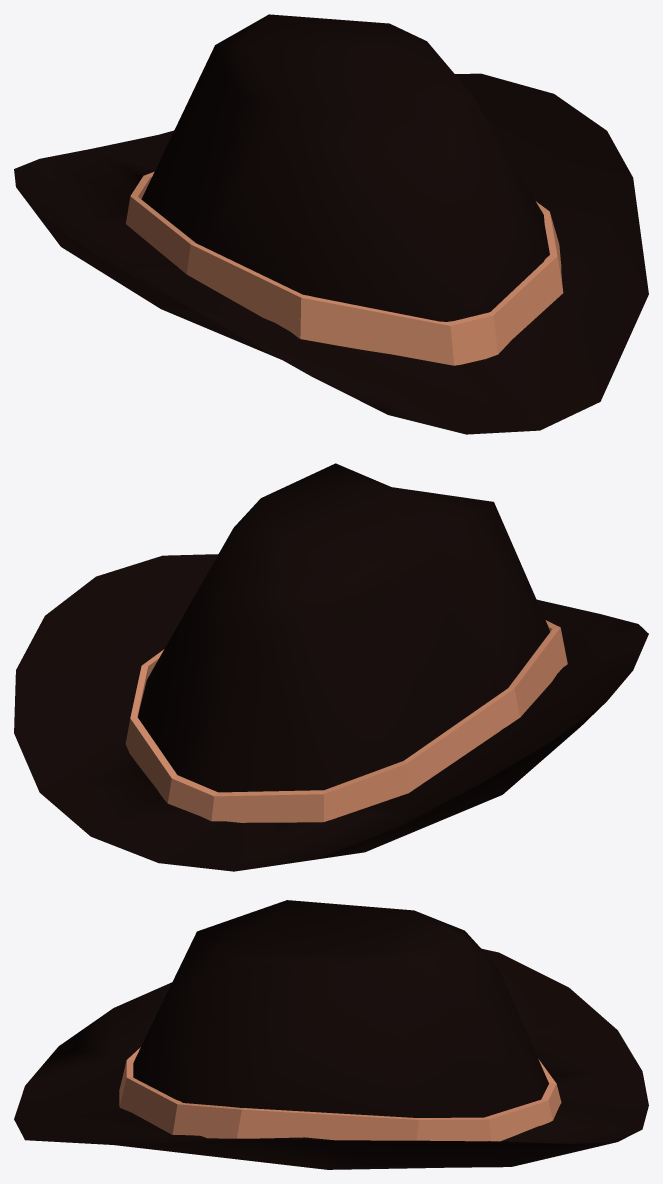
Rendered from Hat_3.FBX.
3 renders of one model, top to bottom at view 1: azimuth 30°, elevation 25°; view 2: azimuth 150°, elevation 25°; view 3: azimuth 270°, elevation 25°, orthographic. The views are drawn at different scales.
Parts seen in each view (by area): view 1: Mesh3; view 2: Mesh3; view 3: Mesh3.
Part boxes in pixels (left/top/right/bottom): Mesh3: left=14, top=14, right=648, bottom=434; Mesh3: left=14, top=463, right=648, bottom=871; Mesh3: left=14, top=900, right=648, bottom=1169.
Size of the model in its own units: 31.09 by 13.1 by 40.2.
